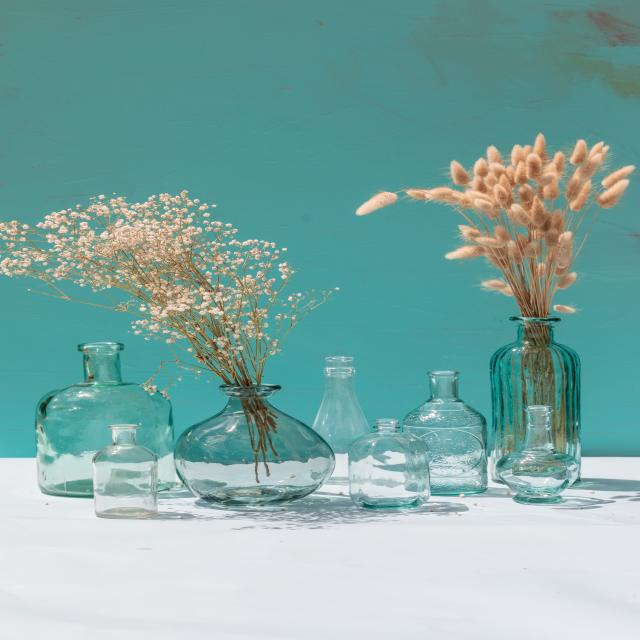Bottle: (36, 343, 175, 497), (175, 385, 335, 506), (404, 371, 487, 495), (496, 406, 579, 504), (348, 419, 429, 508), (93, 425, 157, 518), (313, 357, 370, 453)
